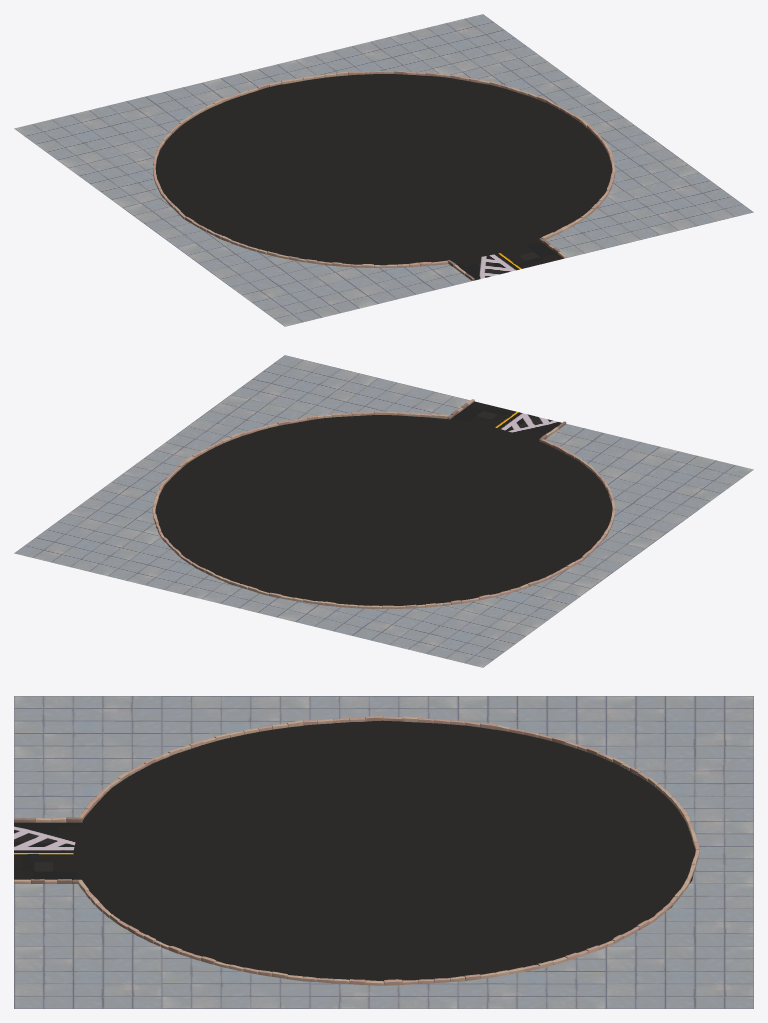
Rendered from CityRoad_roundSquare_0.fbx.
3 renders of one model, top to bottom at view 1: azimuth 30°, elevation 25°; view 2: azimuth 150°, elevation 25°; view 3: azimuth 270°, elevation 25°, orthographic. The views are drawn at different scales.
Visible parts, largest first — view 1: CityRoad_roundSquare_0_mesh; view 2: CityRoad_roundSquare_0_mesh; view 3: CityRoad_roundSquare_0_mesh.
Part boxes in pixels (bbox=[...]): CityRoad_roundSquare_0_mesh: bbox=[14, 14, 753, 326]; CityRoad_roundSquare_0_mesh: bbox=[14, 355, 753, 667]; CityRoad_roundSquare_0_mesh: bbox=[14, 696, 753, 1008].
Size of the model in its own units: 5000 by 28.55 by 5000.
